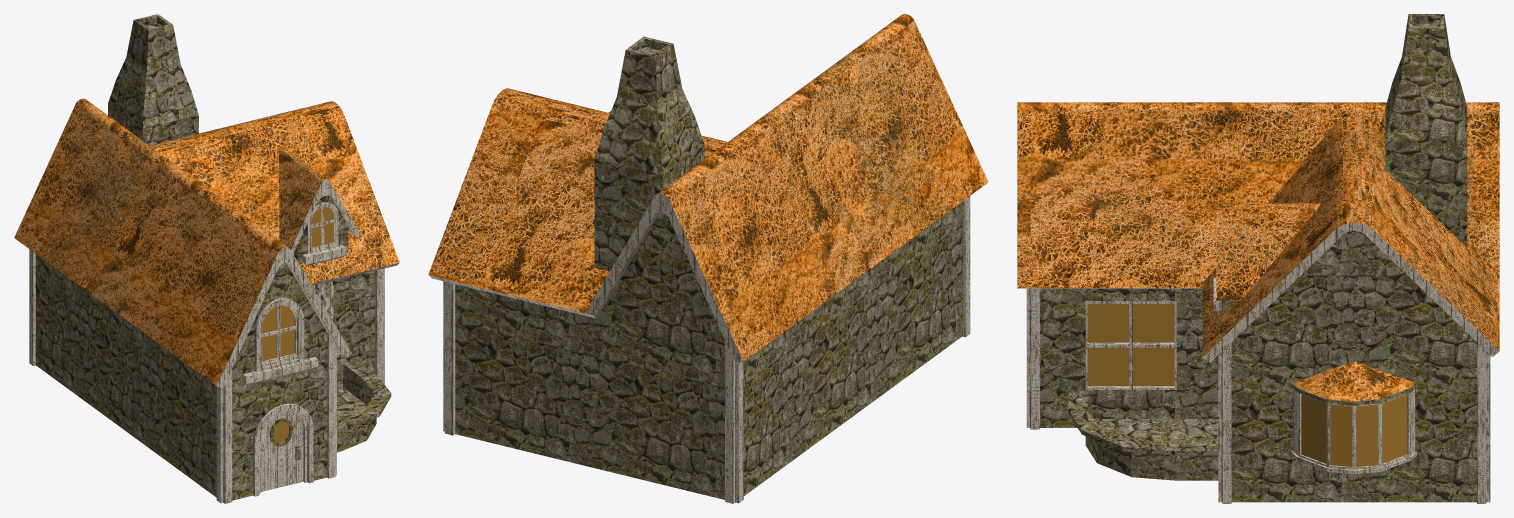
File: cozyCabin.dae
The picture shows the model from 3 angles, left to right: view 1: azimuth 30°, elevation 25°; view 2: azimuth 150°, elevation 25°; view 3: azimuth 270°, elevation 25°; orthographic projection. The views are drawn at different scales.
Visible parts, largest first — view 1: SketchUp (×13); view 2: SketchUp (×4); view 3: SketchUp (×17).
Boxes of the visible parts, x1,y1,x2,y2 form: SketchUp (×13): (14, 14, 399, 503); SketchUp (×4): (428, 14, 988, 503); SketchUp (×17): (1017, 14, 1499, 503).
Size of the model in its own units: 201 by 248 by 226.
4 materials, 3 textured.
